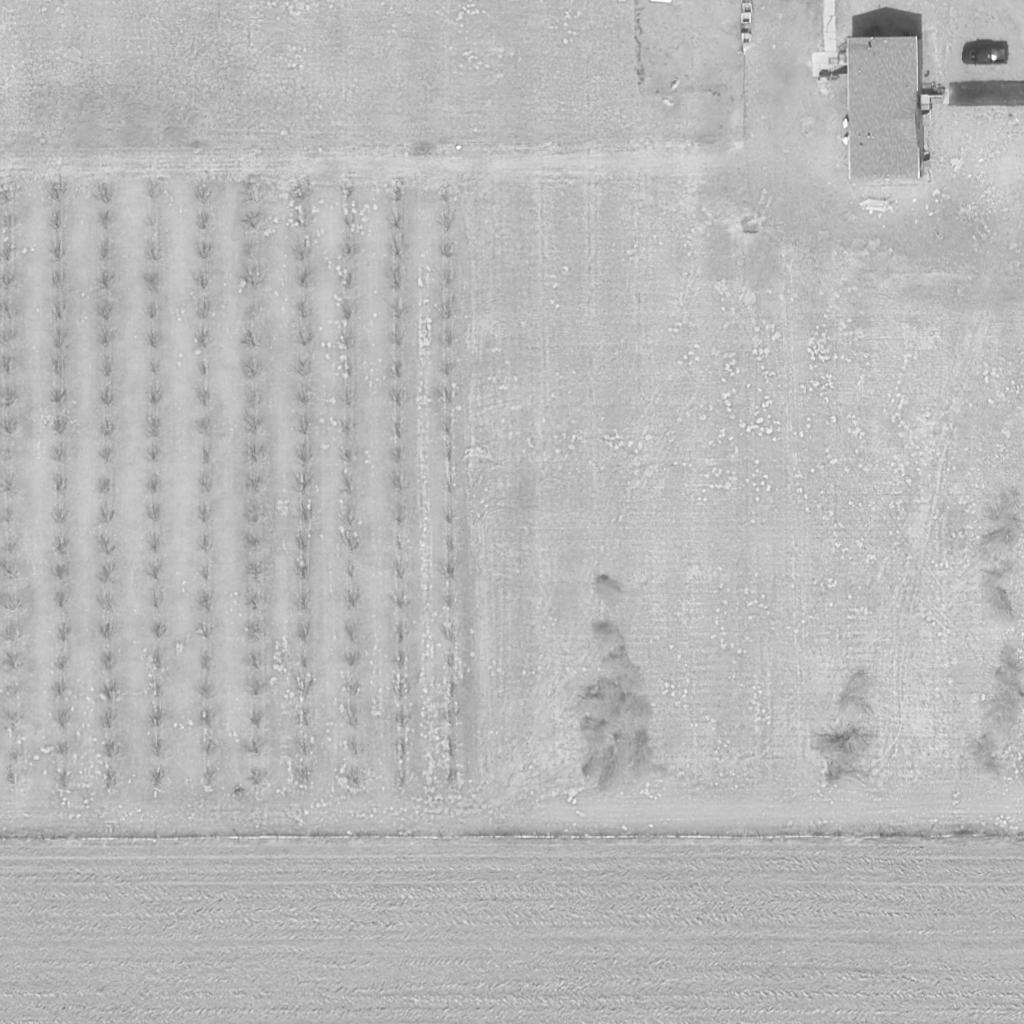vehicle: (961, 47, 1009, 65)
